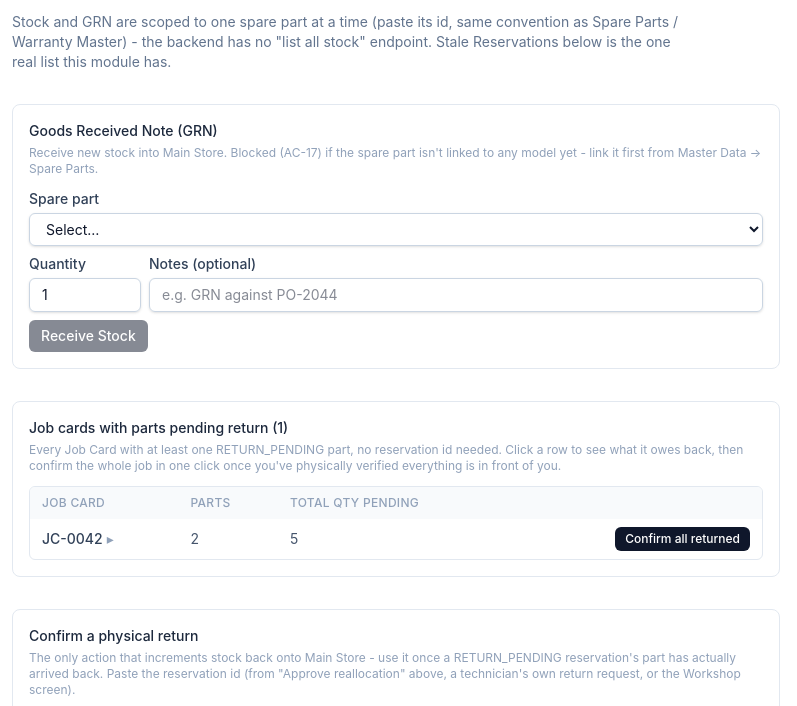
Test: InventoryPage - returns dashboard (2026-09-14: no reservation id required) › confirms all returns for the job card in one click and reports success
The width and height of the screenshot is (797, 706).
Click the text "JC-0042" at (104, 539), box [30,519,178,559]
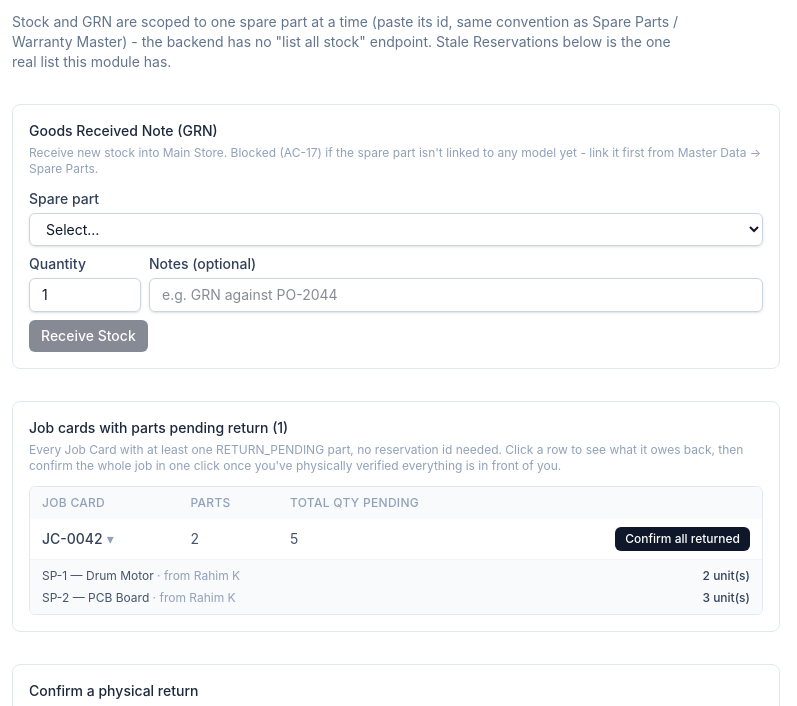
Click the button "Confirm all returned" at (683, 539), box [615,527,750,551]
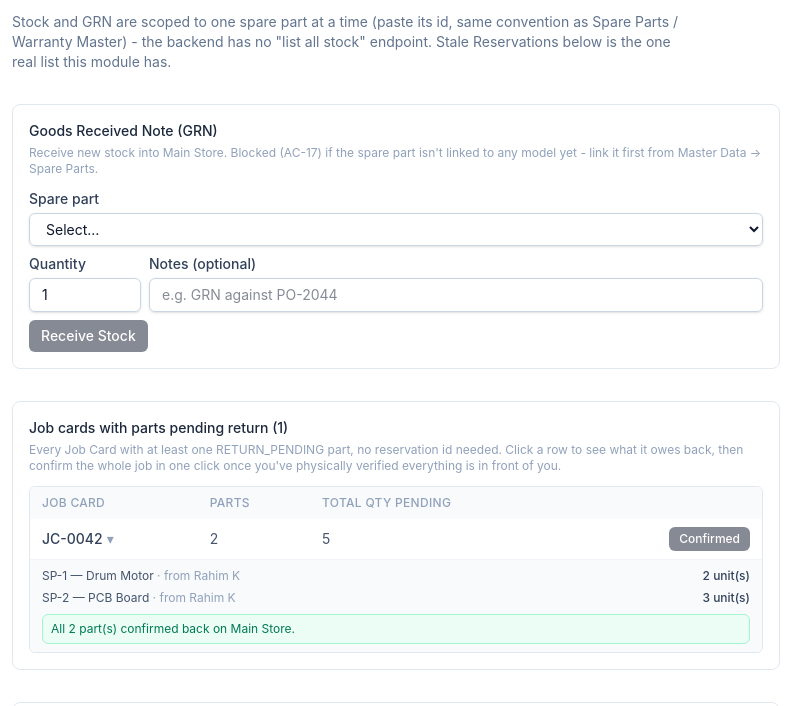
Now the text "All 2 part(s) confirmed back on Main Store." is shown, box [42,614,750,644]
Now the button "Confirmed" is disabled, box [669,527,750,551]
